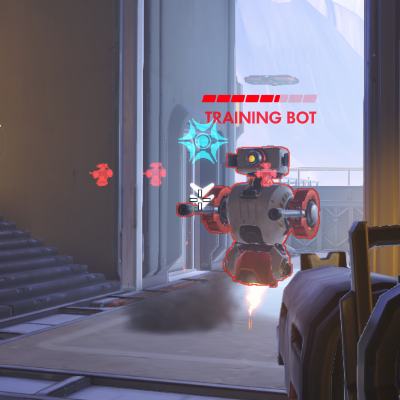hpbar: (201, 94, 318, 103)
